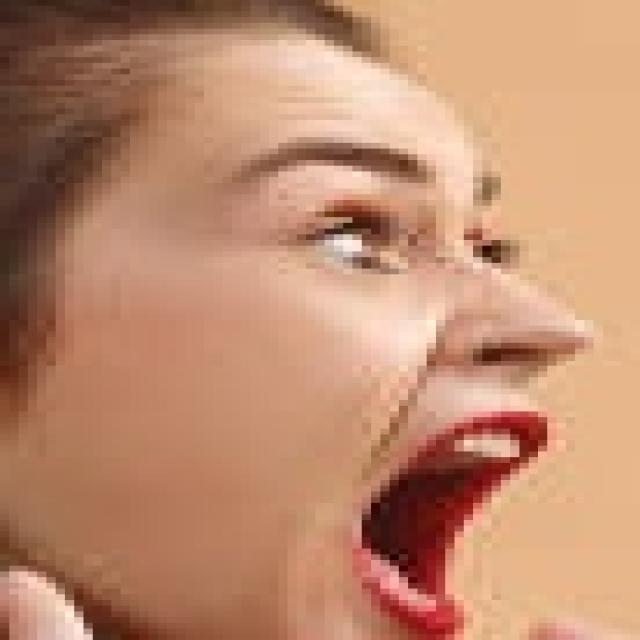Anxiety: (5, 38, 596, 634)
